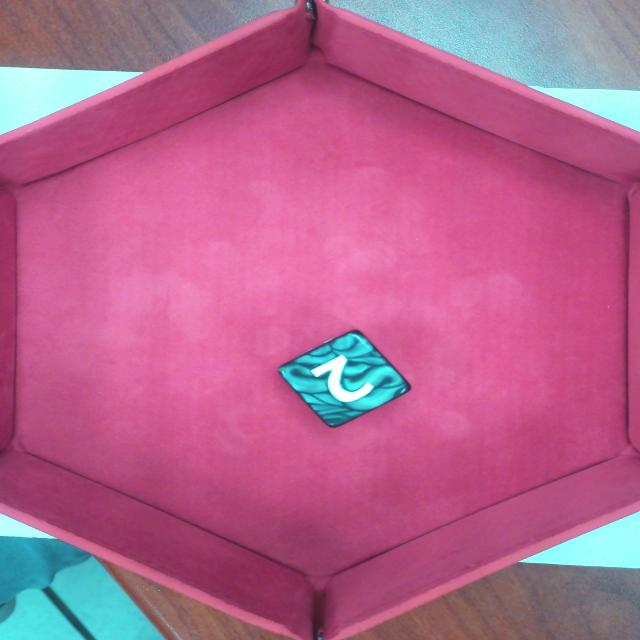dice: (276, 328, 413, 429)
